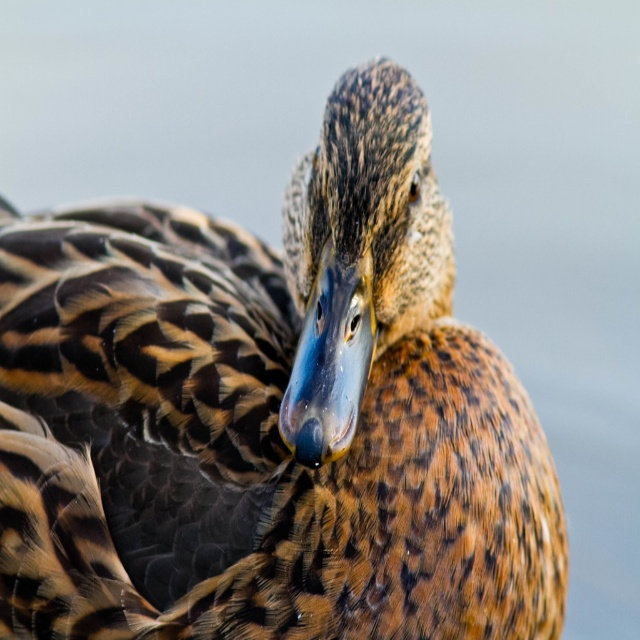Duck: (10, 79, 552, 640)
